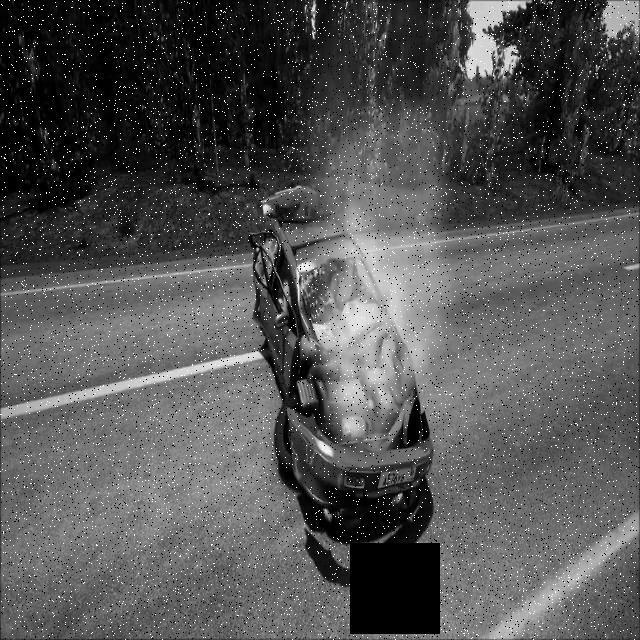single accident: (244, 184, 443, 539)
